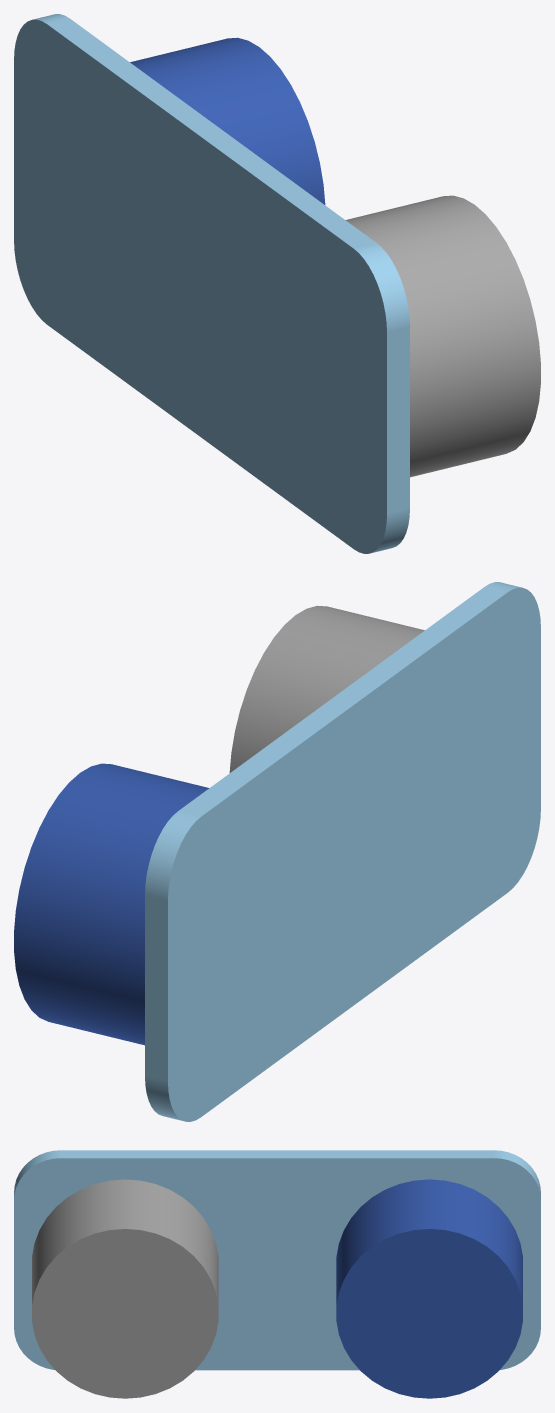
File: ul_sensor.dae
The picture shows the model from 3 angles, top to bottom: view 1: azimuth 30°, elevation 25°; view 2: azimuth 150°, elevation 25°; view 3: azimuth 270°, elevation 25°; orthographic projection. The views are drawn at different scales.
Visible parts, largest first — view 1: Part 1, Part 2, Part 3; view 2: Part 1, Part 3, Part 2; view 3: Part 1, Part 2, Part 3.
Boxes of the visible parts, x1,y1,x2,y2 form: Part 1: (14, 14, 409, 553); Part 2: (345, 195, 540, 477); Part 3: (130, 37, 325, 204); Part 1: (145, 582, 540, 1121); Part 3: (14, 763, 209, 1045); Part 2: (229, 605, 424, 772); Part 1: (14, 1150, 540, 1370); Part 2: (32, 1179, 218, 1398); Part 3: (336, 1179, 522, 1398).
Bounding box in the file's own units: 0.0116 × 0.045 × 0.02.
